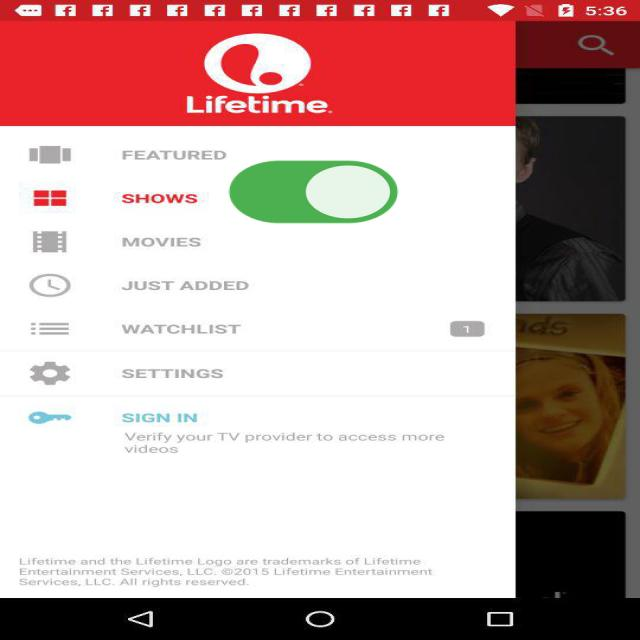social proof: (222, 137, 405, 252)
